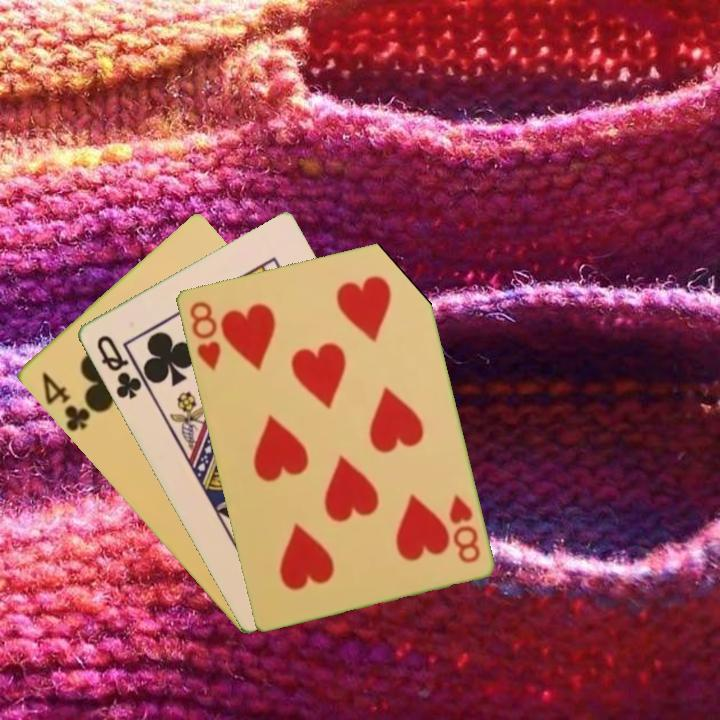4c: (37, 368, 96, 435)
8h: (185, 297, 223, 373), (445, 490, 483, 566)
Qc: (92, 331, 144, 402)
